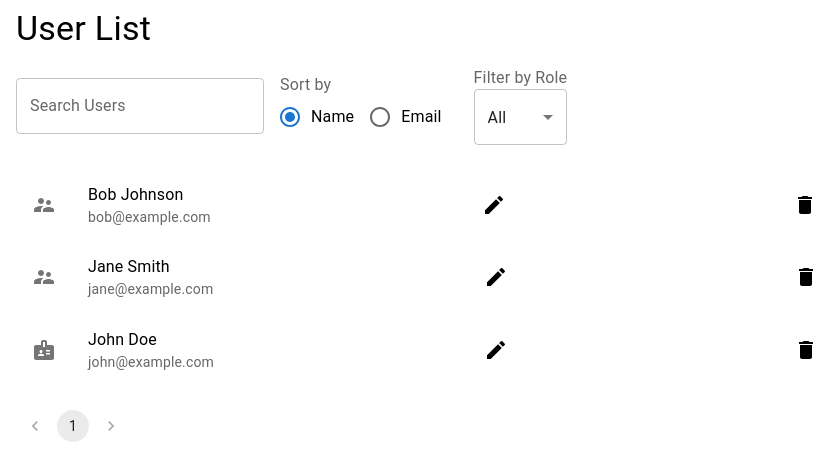
Test case: UserEmployeeListSchwer › filters users by role
Expected: the text "John Doe" is shown, x1=88 y1=330 x2=157 y2=348
Click the dropdown named "Filter by Role": [497, 118] box x1=488 y1=108 x2=506 y2=127
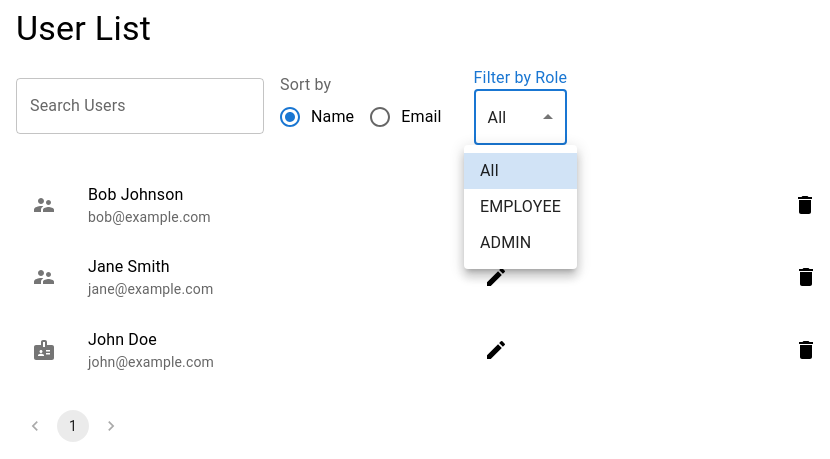
Click the option "ADMIN": [506, 242] box x1=480 y1=233 x2=531 y2=252
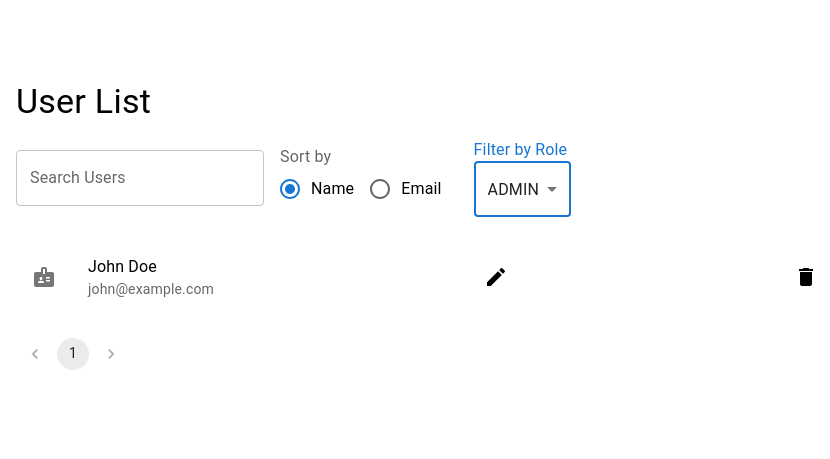
Expected: the text "John Doe" is shown, x1=88 y1=258 x2=157 y2=276
Now the text "Jane Smith" is gone
